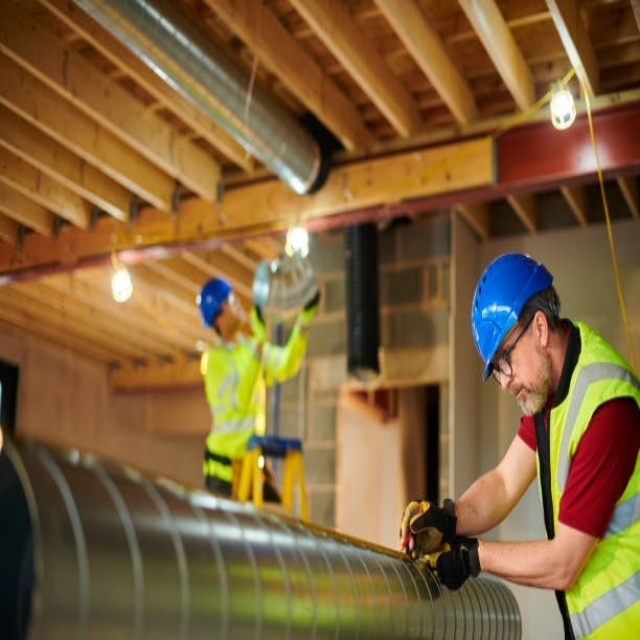Gafas: (493, 314, 540, 389)
Guantes: (435, 534, 483, 589), (408, 496, 460, 545)
Sin_mascara: (505, 383, 536, 420)
